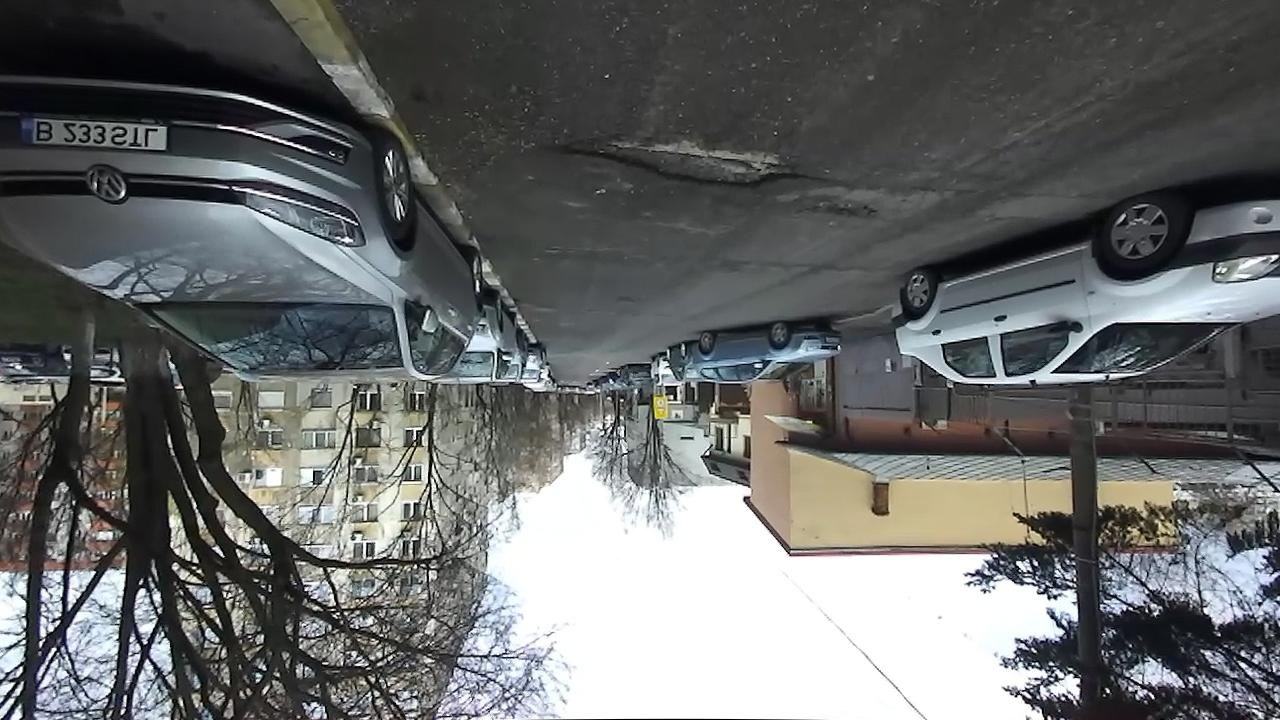pothole: (537, 133, 842, 192), (797, 198, 883, 228)
